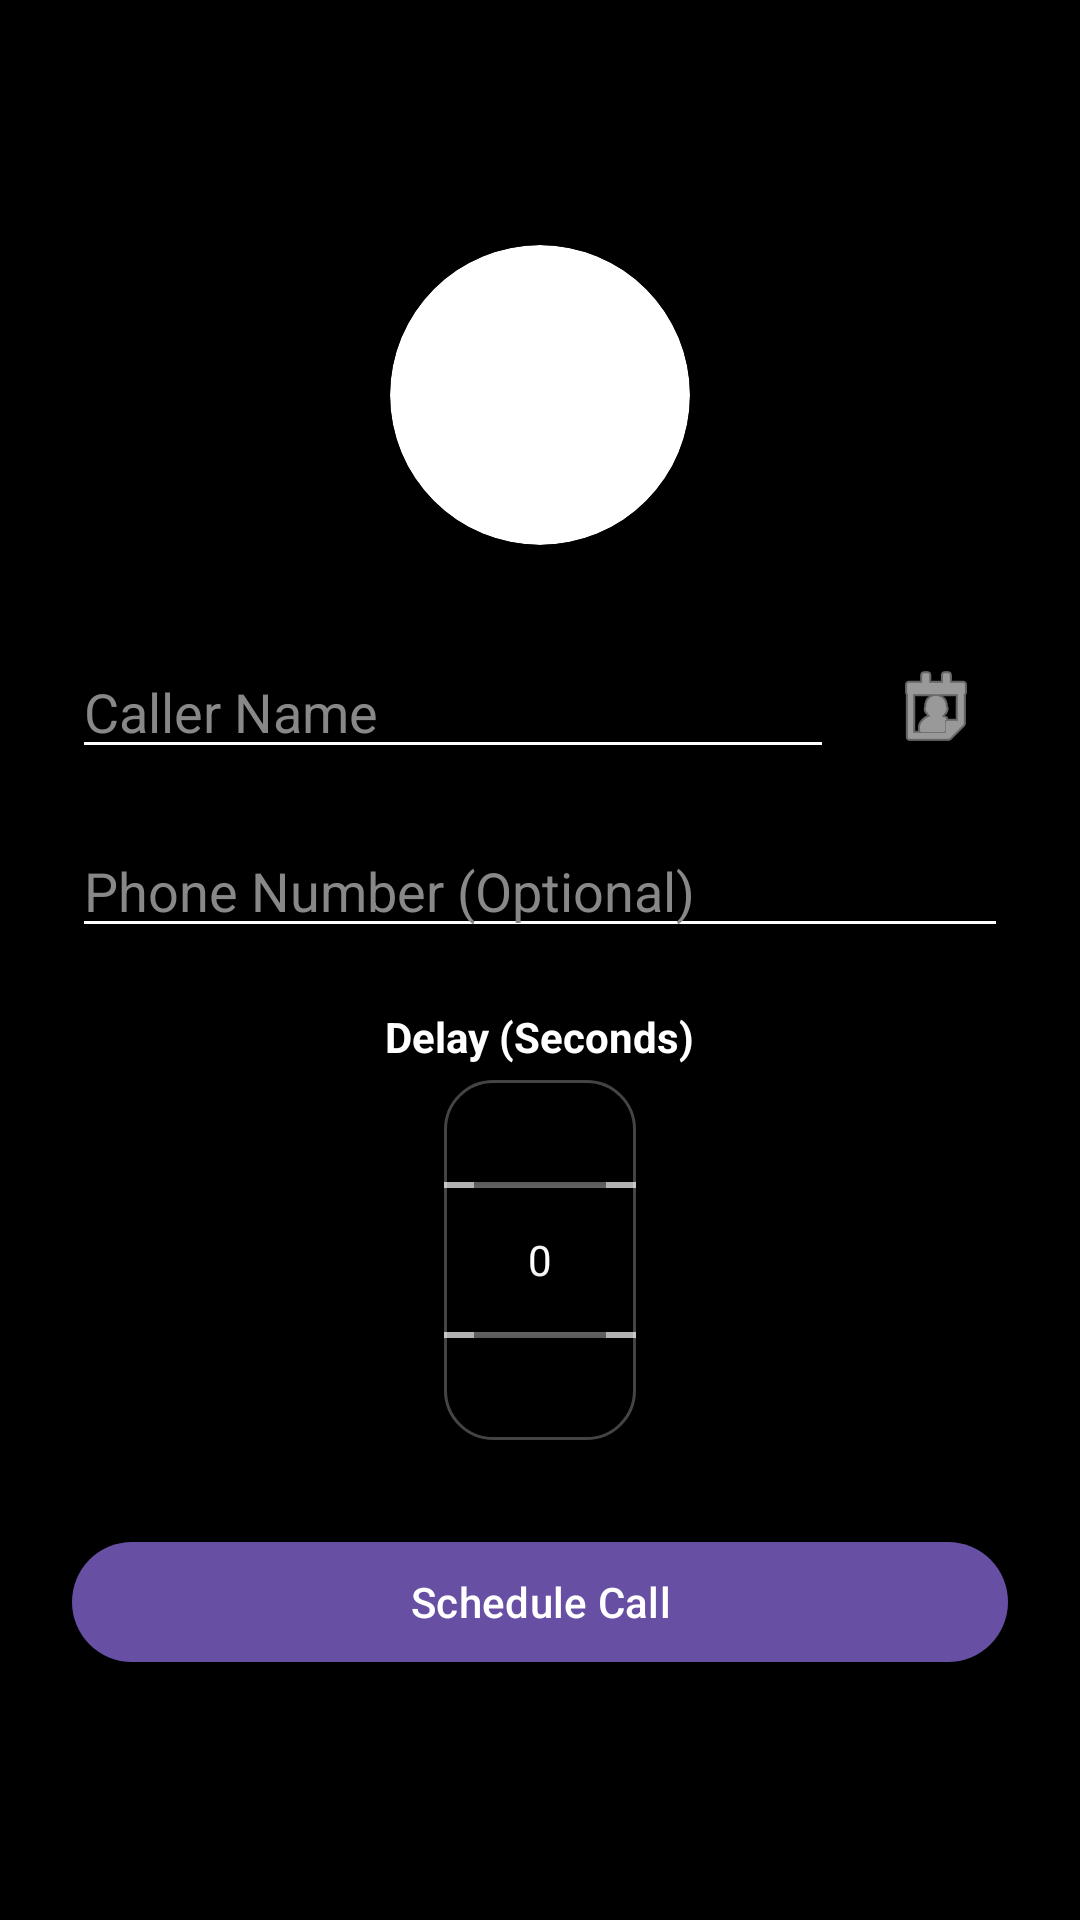

Screen size 1080px×1920px. Icon name, then its center in pixels as (x=x, y=y):
Pick from Contacts: (x=936, y=706)
